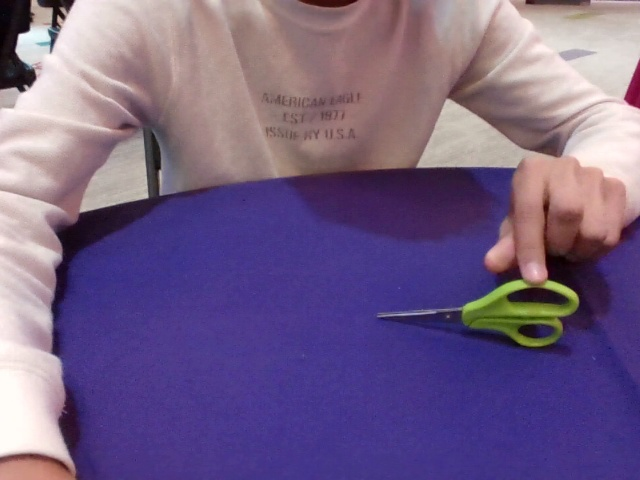tijeras: (374, 278, 581, 350)
